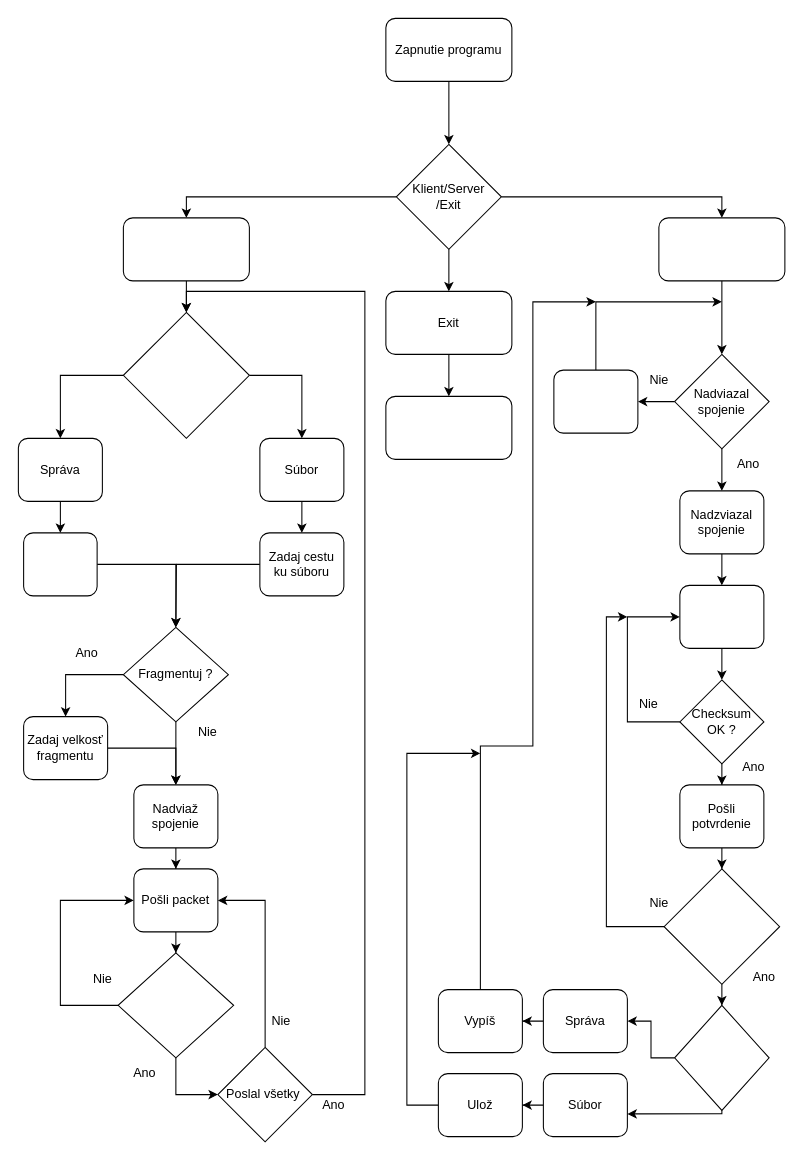
Image size: 803x1160. Some labels were removed from this diagram. The shapes that lost their labels are listed below. From the top down, each one's box as (x1, y1, x2, y2) in pixels, then its label:
(122, 217, 249, 281): Klient
(658, 217, 785, 281): Server
(122, 311, 249, 438): Poslať Správu/Súbor
(553, 369, 638, 433): Počkaj na packet
(385, 395, 512, 459): Ukončí spojenie
(23, 532, 97, 596): Zadaj správu
(679, 584, 764, 648): Prijmi packet
(663, 868, 780, 984): Boli to všetky ?
(117, 952, 234, 1058): Potvrdenie zo servera
(674, 1004, 769, 1110): Subor/Správa
